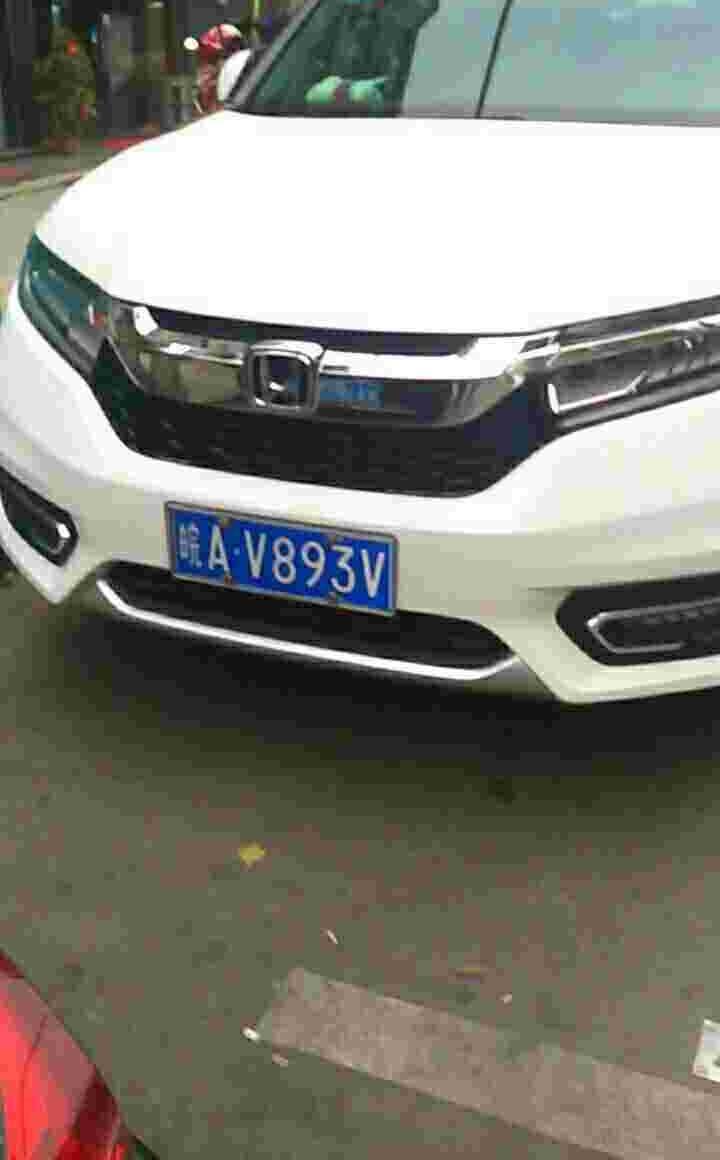license_plate: (175, 505, 393, 616)
